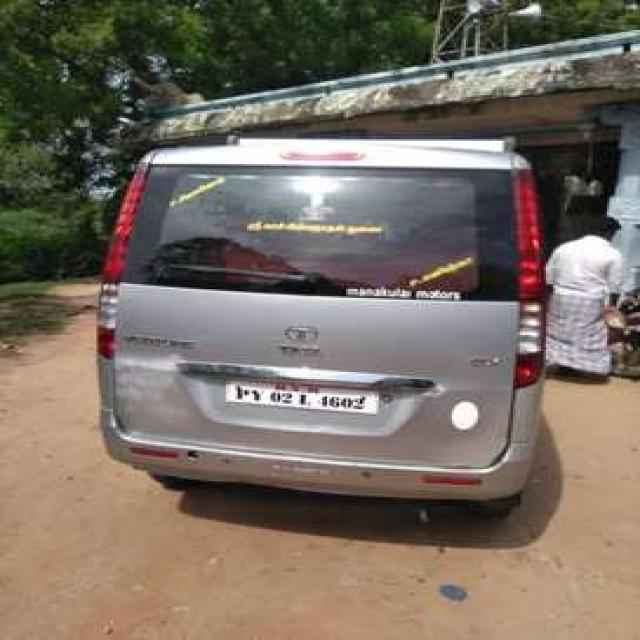licenseplate: (225, 380, 375, 413)
